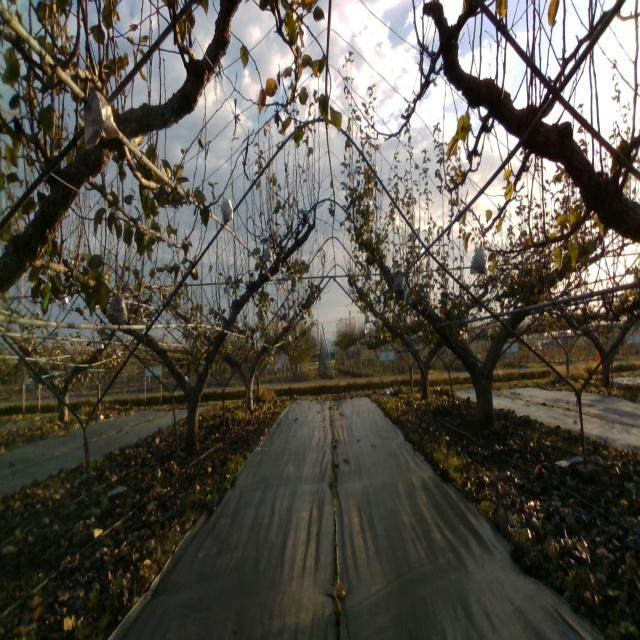pearbags: (84, 83, 122, 150), (469, 239, 486, 275), (221, 192, 235, 226), (393, 270, 404, 294), (262, 245, 274, 265)
